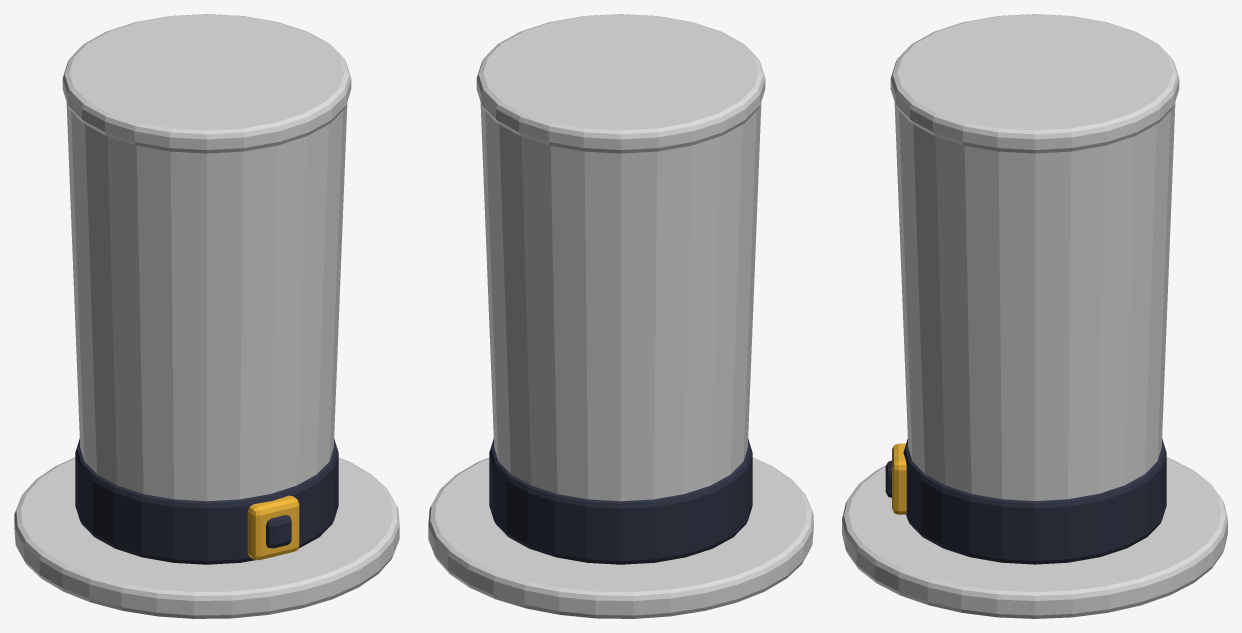
The model's file is tophat.glb.
The picture shows the model from 3 angles, left to right: view 1: azimuth 30°, elevation 25°; view 2: azimuth 150°, elevation 25°; view 3: azimuth 270°, elevation 25°; orthographic projection.
Visible parts, largest first — view 1: PawnTopHat; view 2: PawnTopHat; view 3: PawnTopHat.
Part boxes in pixels (<box>): PawnTopHat: <box>14,14,399,618</box>; PawnTopHat: <box>428,14,813,618</box>; PawnTopHat: <box>842,14,1227,618</box>.
Size of the model in its own units: 0.46 by 0.615 by 0.46.
